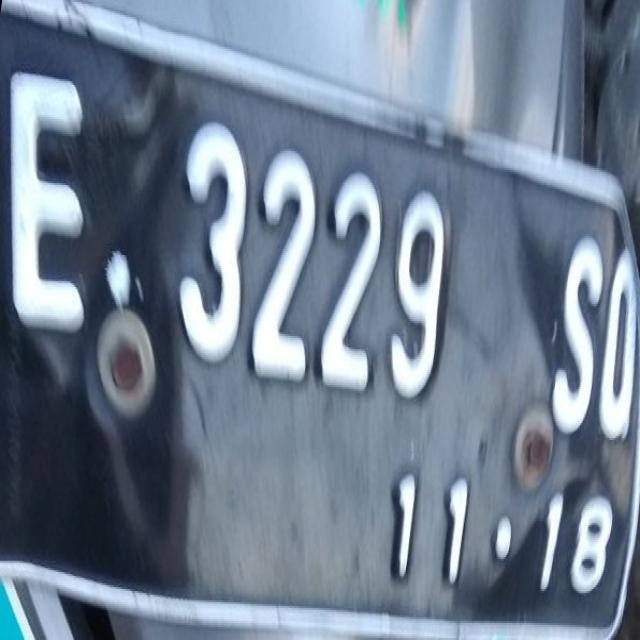plate: (0, 0, 634, 638)
